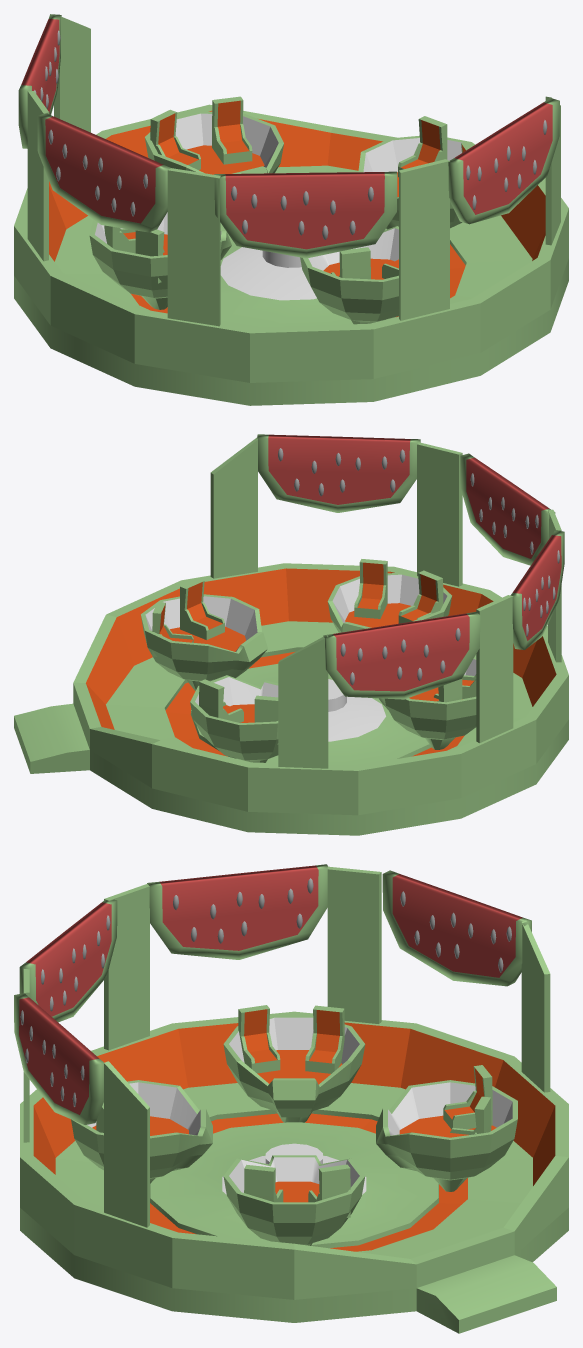
File: Fruitstoy2.fbx
The picture shows the model from 3 angles, top to bottom: view 1: azimuth 30°, elevation 25°; view 2: azimuth 150°, elevation 25°; view 3: azimuth 270°, elevation 25°; orthographic projection. The views are drawn at different scales.
Visible parts, largest first — view 1: pCylinder1, pCube1 (×6), pSphere5 (×4), Watermelon:pCube1, pCube2 (×3); view 2: pCylinder1, pCube1 (×6), pSphere5 (×4), Watermelon:pCube1, pCube2 (×4); view 3: pCylinder1, pCube1 (×6), pSphere5 (×4), Watermelon:pCube1, pCube2 (×3), pCylinder2.
Boxes of the visible parts, x1,y1,x2,y2 form: pCylinder1: (14,15,568,405); pCube1 (×6): (18,14,447,283); pSphere5 (×4): (89,111,474,324); Watermelon:pCube1: (448,98,559,224); pCube2 (×3): (104,96,370,279); pCylinder1: (14,437,568,835); pCube1 (×6): (152,453,564,744); pSphere5 (×4): (141,572,476,762); Watermelon:pCube1: (257,434,420,512); pCube2 (×4): (180,570,462,722); pCylinder1: (20,866,568,1333); pCube1 (×6): (19,864,531,1217); pSphere5 (×4): (71,1015,517,1245); Watermelon:pCube1: (14,993,103,1124); pCube2 (×3): (244,1005,491,1202); pCylinder2: (265,1143,322,1164).
Size of the model in its own units: 99.18 by 41.49 by 93.52.
